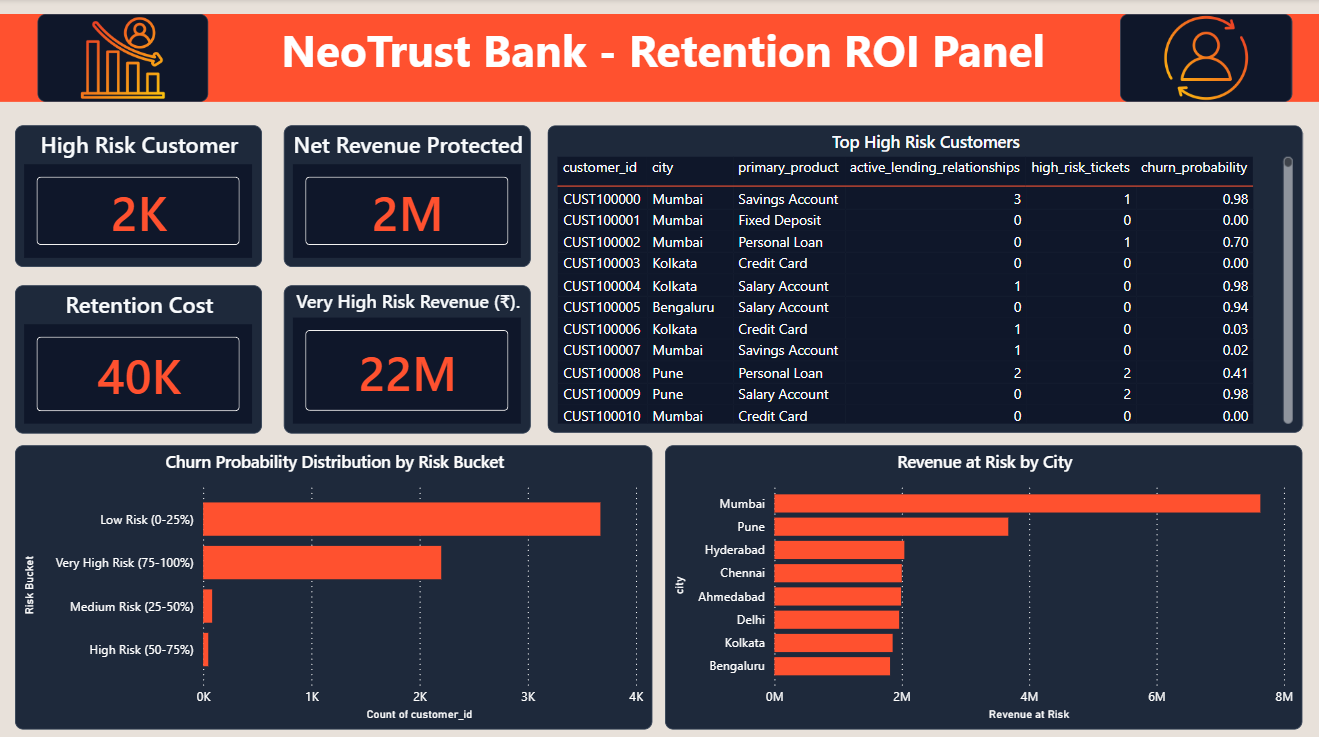

The dashboard page shown, as its layout file describes it:
{"tool":"powerbi","page":{"name":"Retention ROI","canvas":[1280,720],"ordinal":2},"visuals":[{"type":"textbox","box":[0,15,1280,85],"z":0},{"type":"image","box":[1081.2,15,166.2,85],"z":1000},{"type":"image","box":[36.2,15,165,85],"z":2000},{"type":"cardVisual","title":"Retention Cost","fields":{"Data":["clean_master.Retention Cost"]},"box":[14.3,275.7,238.6,142.9],"z":4000},{"type":"cardVisual","title":"Net Revenue Protected","fields":{"Data":["clean_master.Net Revenue Protected"]},"box":[274.3,121.4,238.6,137.1],"z":5000},{"type":"tableEx","title":"Top High Risk Customers","fields":{"Values":["clean_master.customer_id","clean_master.city","clean_master.primary_product","clean_master.active_lending_relationships","clean_master.high_risk_tickets","clean_master.churn_probability"]},"box":[528.6,121.4,728.6,297.1],"z":6000},{"type":"clusteredBarChart","title":"Revenue at Risk by City","fields":{"Category":["clean_master.city"],"Y":["clean_master.Revenue at Risk"]},"box":[642.2,431.1,615.6,274.4],"z":7000},{"type":"clusteredBarChart","title":"Churn Probability Distribution by Risk Bucket","fields":{"Category":["clean_master.Risk Bucket"],"Y":["CountNonNull(clean_master.customer_id)"]},"box":[14.4,431.1,615.6,274.4],"z":8000},{"type":"cardVisual","title":"High Risk Customer","fields":{"Data":["clean_master.High Risk Customers"]},"box":[14.3,121.4,238.6,137.1],"z":8001},{"type":"cardVisual","title":"Very High Risk Revenue (₹).","fields":{"Data":["clean_master.Very High Risk Revenue"]},"box":[274.3,275.7,238.6,142.9],"z":8002}]}

Visuals, with their boxes in screenshot pixels (x1, y1, x2, y2), scaled from the page's 1280x720 canvas onto the 1319x737 screenshot:
textbox: bbox=(0, 15, 1318, 102)
image: bbox=(1114, 15, 1285, 102)
image: bbox=(37, 15, 207, 102)
"Retention Cost" cardVisual: bbox=(15, 282, 261, 428)
"Net Revenue Protected" cardVisual: bbox=(283, 124, 529, 265)
"Top High Risk Customers" tableEx: bbox=(545, 124, 1296, 428)
"Revenue at Risk by City" clusteredBarChart: bbox=(662, 441, 1296, 722)
"Churn Probability Distribution by Risk Bucket" clusteredBarChart: bbox=(15, 441, 649, 722)
"High Risk Customer" cardVisual: bbox=(15, 124, 261, 265)
"Very High Risk Revenue (₹)." cardVisual: bbox=(283, 282, 529, 428)
